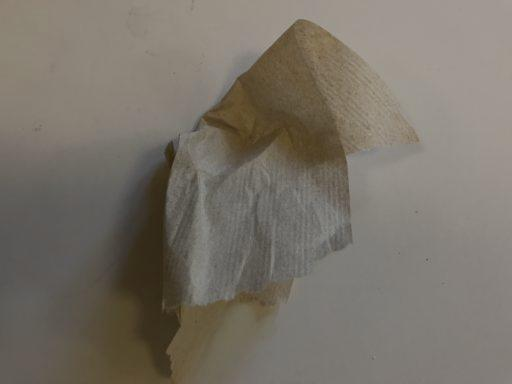trash: (163, 17, 420, 381)
